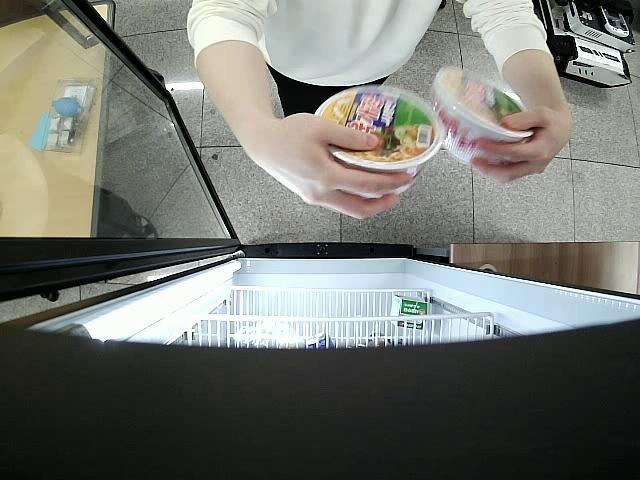09_yukGaeJang: (316, 86, 446, 199), (436, 67, 534, 170)
